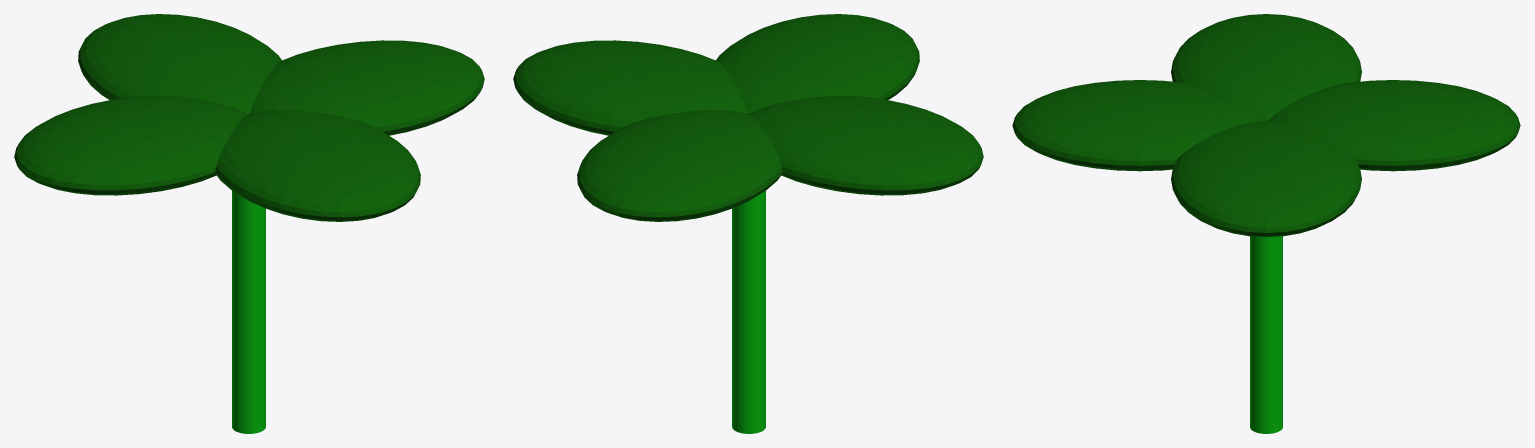
The model's file is Clover.fbx.
3 views of the same model, side by side, from view 1: azimuth 30°, elevation 25°; view 2: azimuth 150°, elevation 25°; view 3: azimuth 270°, elevation 25° (orthographic). The views are drawn at different scales.
Parts seen in each view (by area): view 1: Sphere.003, Sphere, Sphere.001, Sphere.002, Cylinder; view 2: Sphere.002, Sphere, Sphere.001, Sphere.003, Cylinder; view 3: Sphere.001, Sphere.002, Sphere.003, Sphere, Cylinder.
Boxes of the visible parts, bbox=[...] form: Sphere.003: bbox=[215, 110, 420, 221]; Sphere: bbox=[14, 95, 247, 195]; Sphere.001: bbox=[250, 40, 484, 135]; Sphere.002: bbox=[78, 14, 281, 114]; Cylinder: bbox=[232, 190, 265, 433]; Sphere.002: bbox=[577, 110, 782, 221]; Sphere: bbox=[750, 95, 983, 195]; Sphere.001: bbox=[513, 40, 747, 135]; Sphere.003: bbox=[716, 14, 919, 114]; Cylinder: bbox=[732, 190, 765, 433]; Sphere.001: bbox=[1171, 121, 1361, 237]; Sphere.002: bbox=[1268, 80, 1520, 171]; Sphere.003: bbox=[1012, 80, 1264, 171]; Sphere: bbox=[1171, 14, 1361, 120]; Cylinder: bbox=[1250, 236, 1282, 433].
Size of the model in its own units: 211 by 148 by 211.
